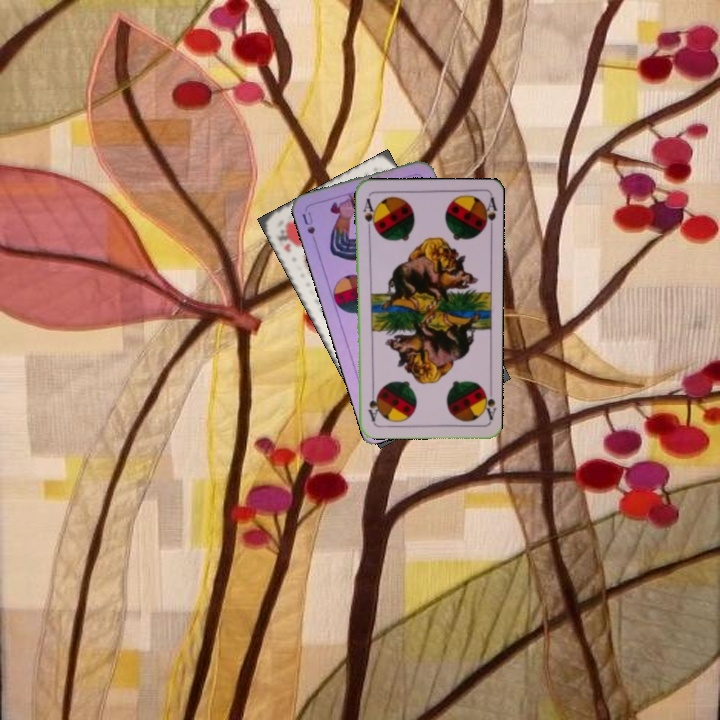HK: (271, 226, 294, 255)
SA: (477, 383, 497, 422), (359, 194, 378, 234)
SU: (298, 207, 318, 248)
